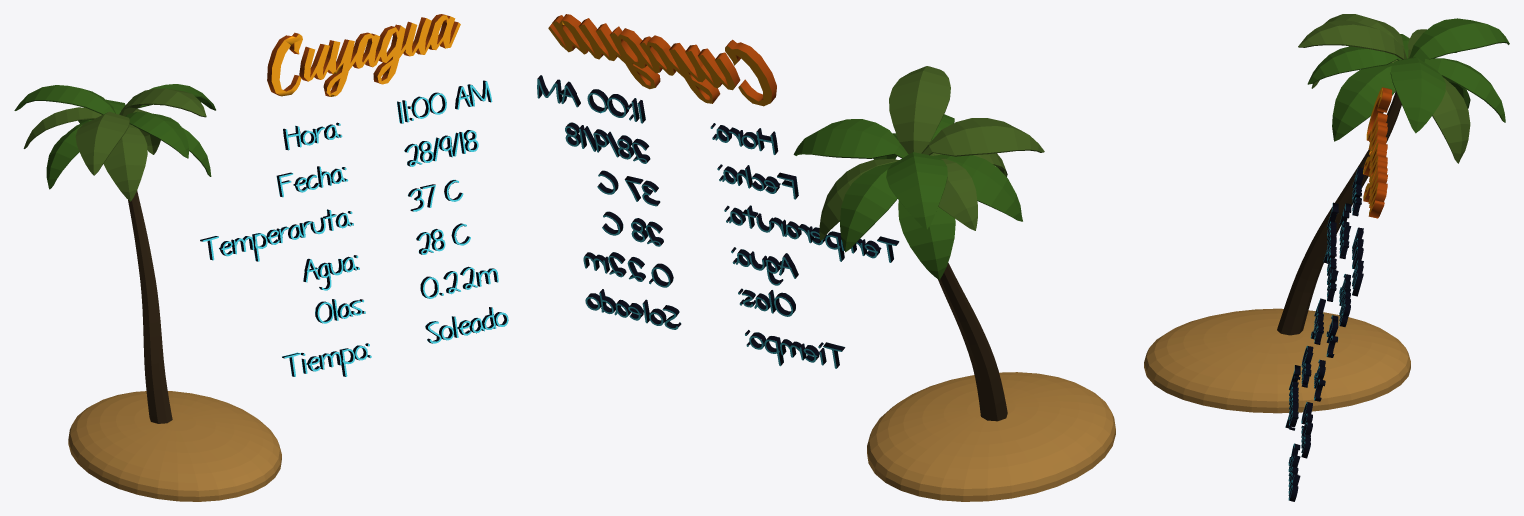
Rendered from cuyagua-palm.obj.
3 renders of one model, left to right at view 1: azimuth 30°, elevation 25°; view 2: azimuth 150°, elevation 25°; view 3: azimuth 270°, elevation 25°, orthographic. The views are drawn at different scales.
Parts seen in each view (by area): view 1: Text.004, Sphere, Palm-tree_Cylinder.001; view 2: Palm-tree_Cylinder.001, Sphere, Text.004; view 3: Sphere, Palm-tree_Cylinder.001, Text.004.
Boxes of the visible parts, x1,y1,x2,y2 form: Text.004: [200, 14, 508, 376]; Sphere: [68, 391, 281, 501]; Palm-tree_Cylinder.001: [14, 84, 215, 423]; Palm-tree_Cylinder.001: [793, 66, 1044, 421]; Sphere: [867, 372, 1115, 501]; Text.004: [537, 14, 899, 368]; Sphere: [1144, 308, 1410, 413]; Palm-tree_Cylinder.001: [1277, 14, 1509, 335]; Text.004: [1285, 87, 1392, 501].
Bounding box in the file's own units: 3.34 × 2.48 × 2.24.
